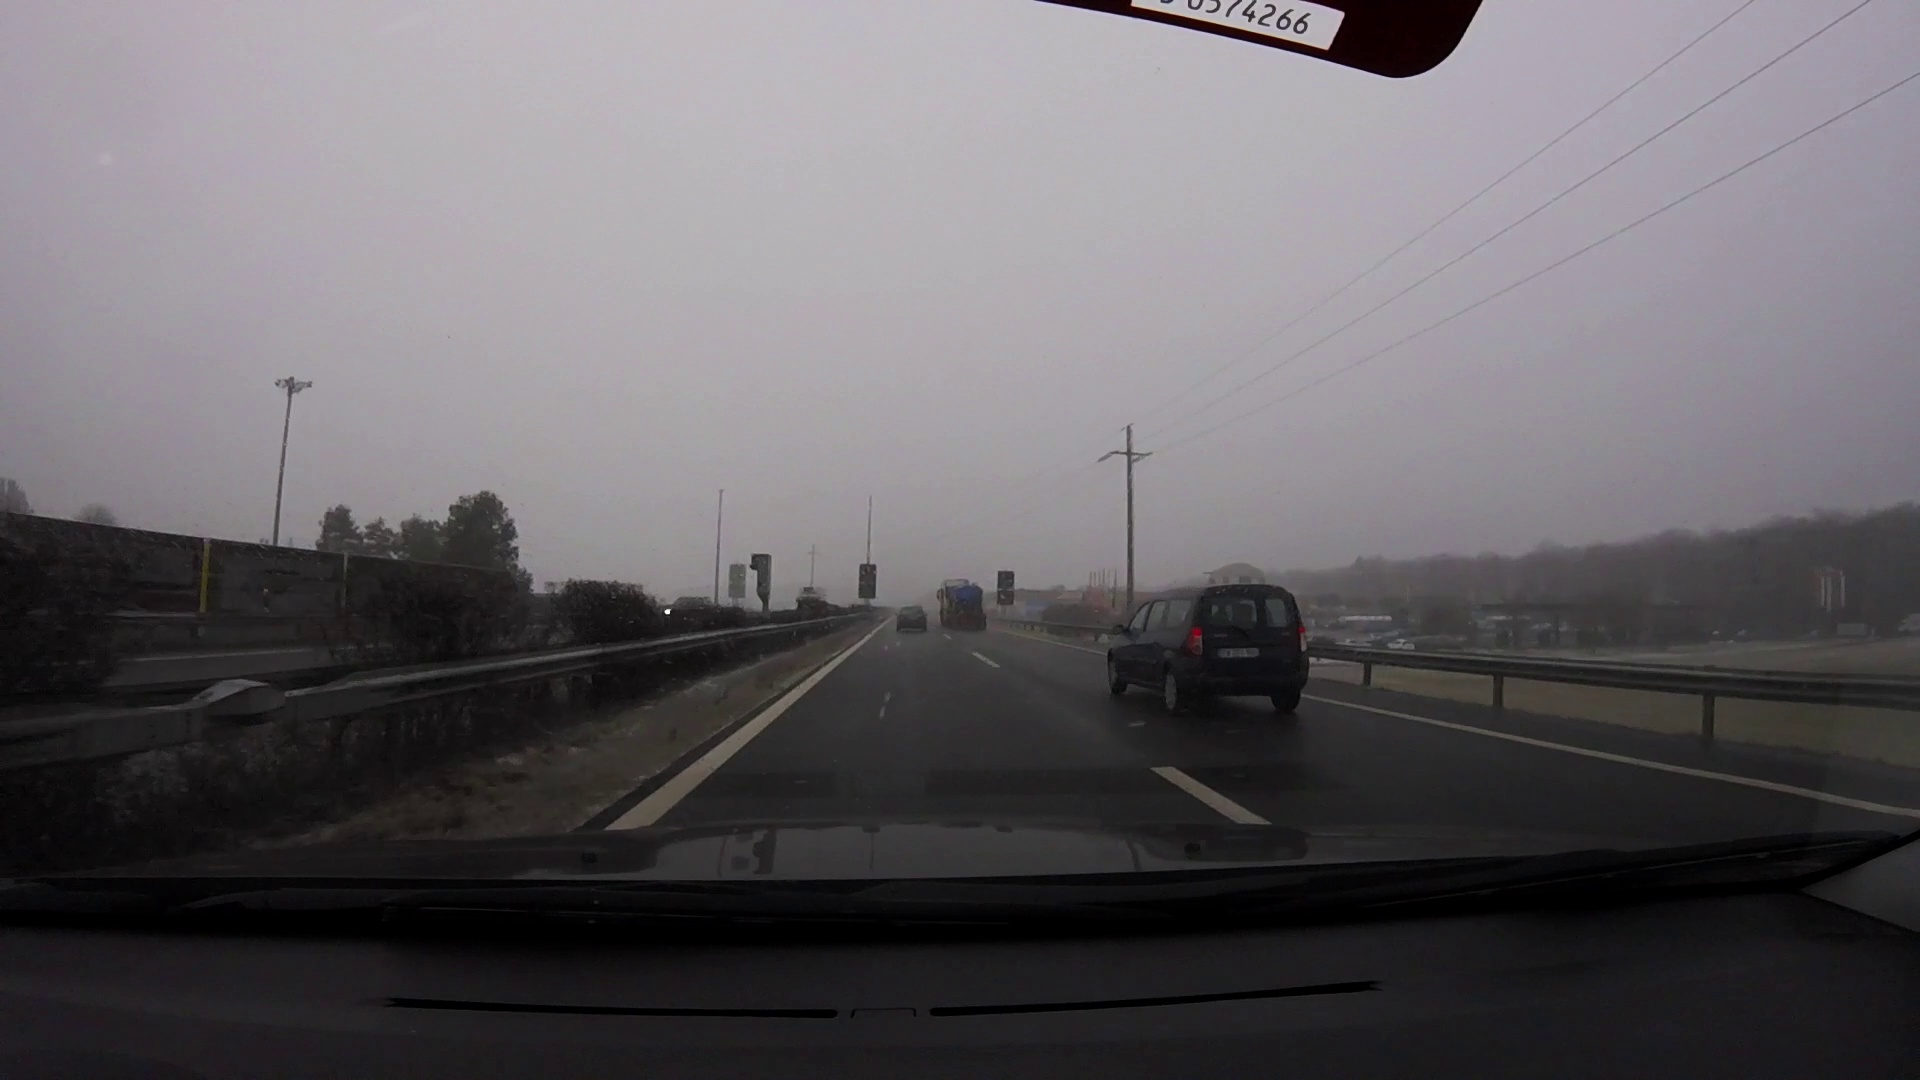radar: (746, 553, 775, 607)
